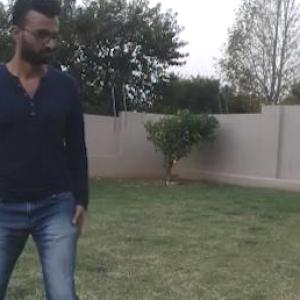follow: (0, 0, 107, 299)
